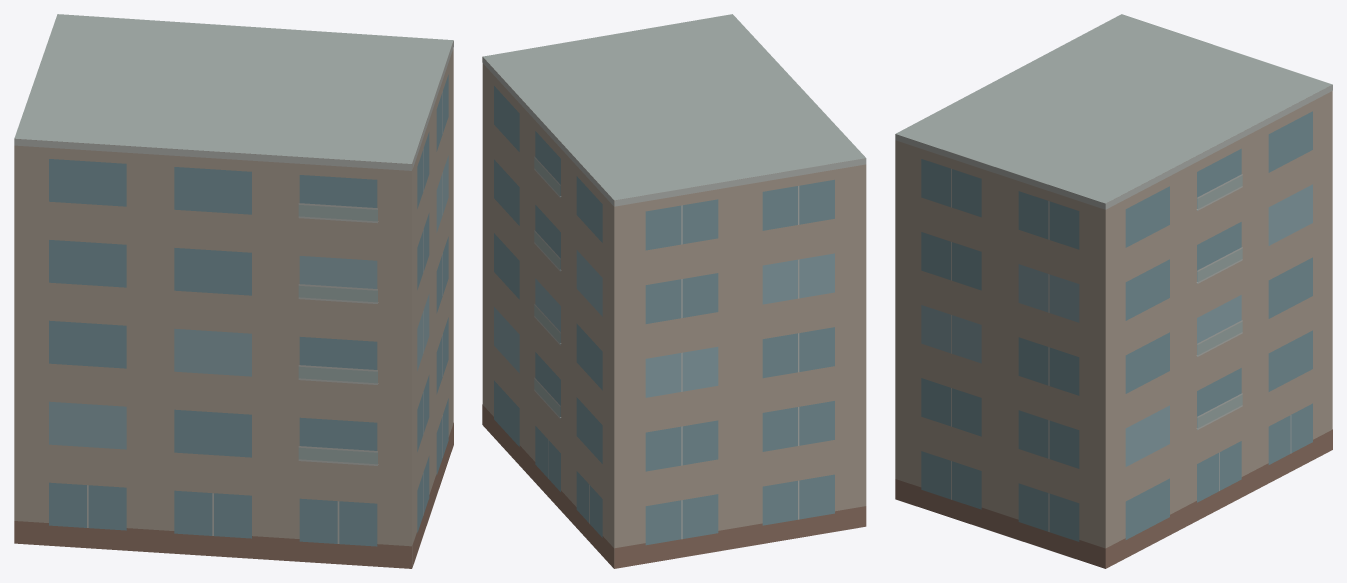
The model's file is survey-upis-32960742.glb.
The picture shows the model from 3 angles, left to right: view 1: azimuth 30°, elevation 25°; view 2: azimuth 150°, elevation 25°; view 3: azimuth 270°, elevation 25°; orthographic projection. The views are drawn at different scales.
Visible parts, largest first — view 1: survey-upis-32960742.tmp; view 2: survey-upis-32960742.tmp; view 3: survey-upis-32960742.tmp.
Part boxes in pixels (left/top/right/bottom): survey-upis-32960742.tmp: left=14, top=14, right=453, bottom=568; survey-upis-32960742.tmp: left=482, top=14, right=866, bottom=568; survey-upis-32960742.tmp: left=895, top=14, right=1332, bottom=568.
Size of the model in its own units: 15.92 by 14.3 by 15.53.
